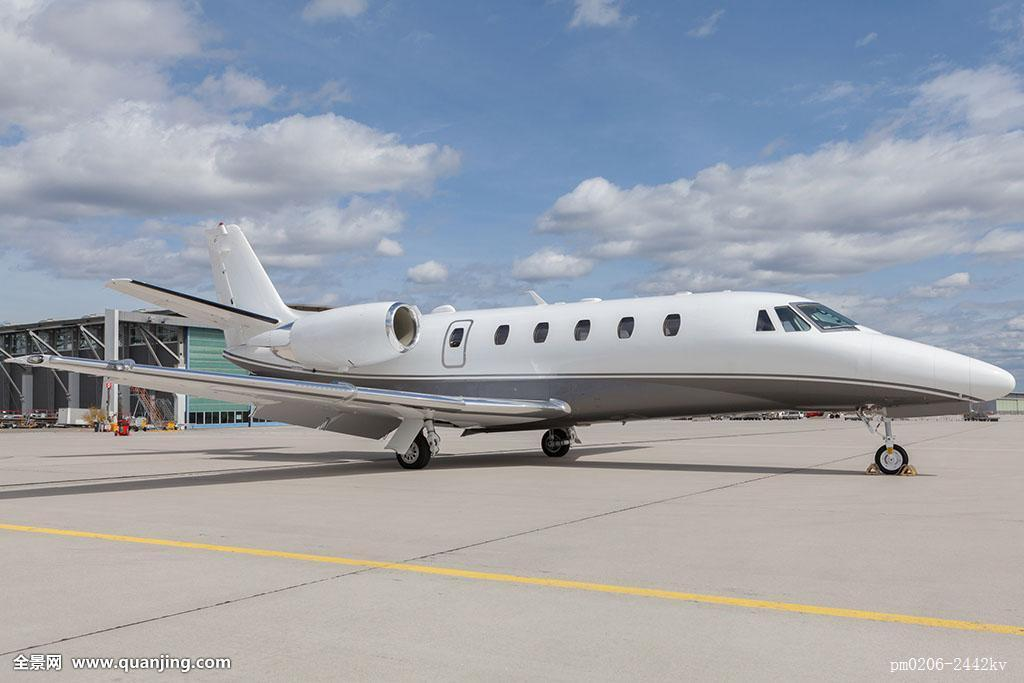airplane: (114, 218, 1021, 489)
